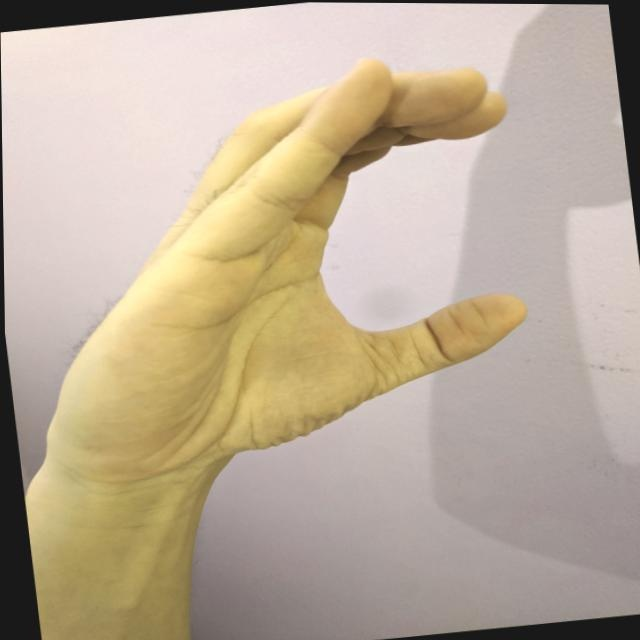C: (0, 38, 554, 497)
